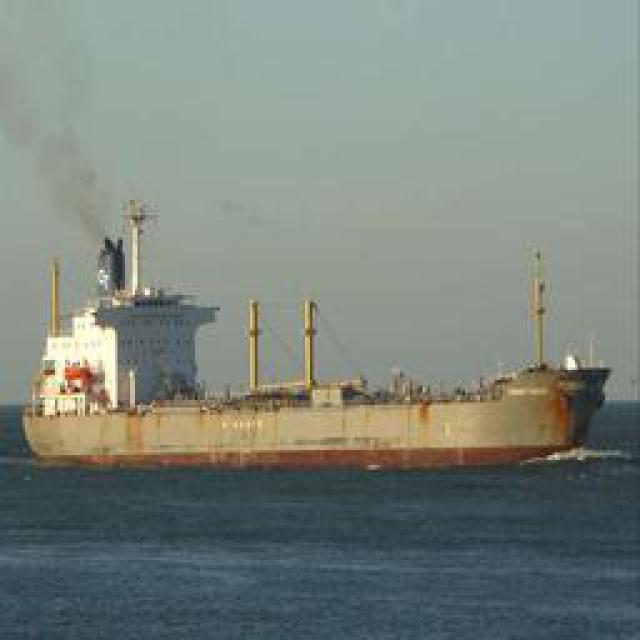Ship: (12, 388, 585, 473)
